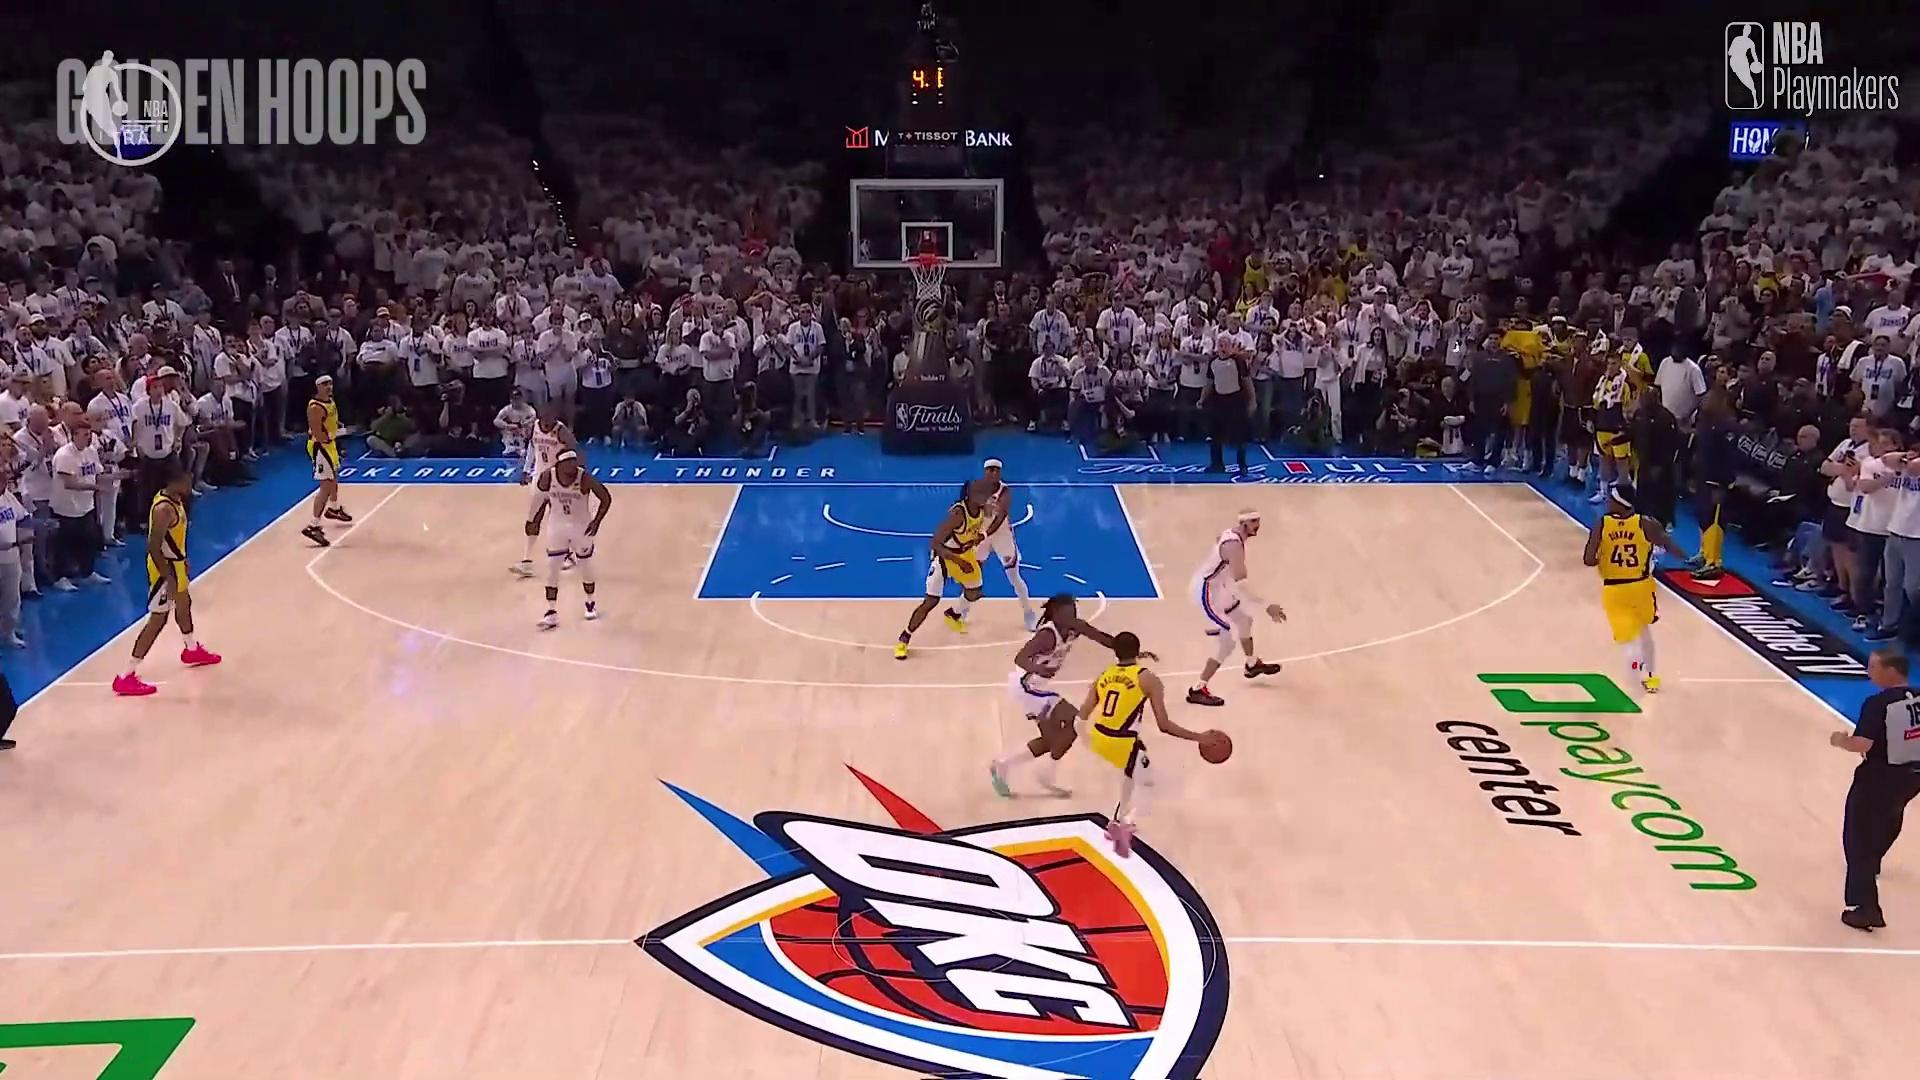ball: (1193, 732, 1238, 774)
hoop: (906, 248, 957, 306)
